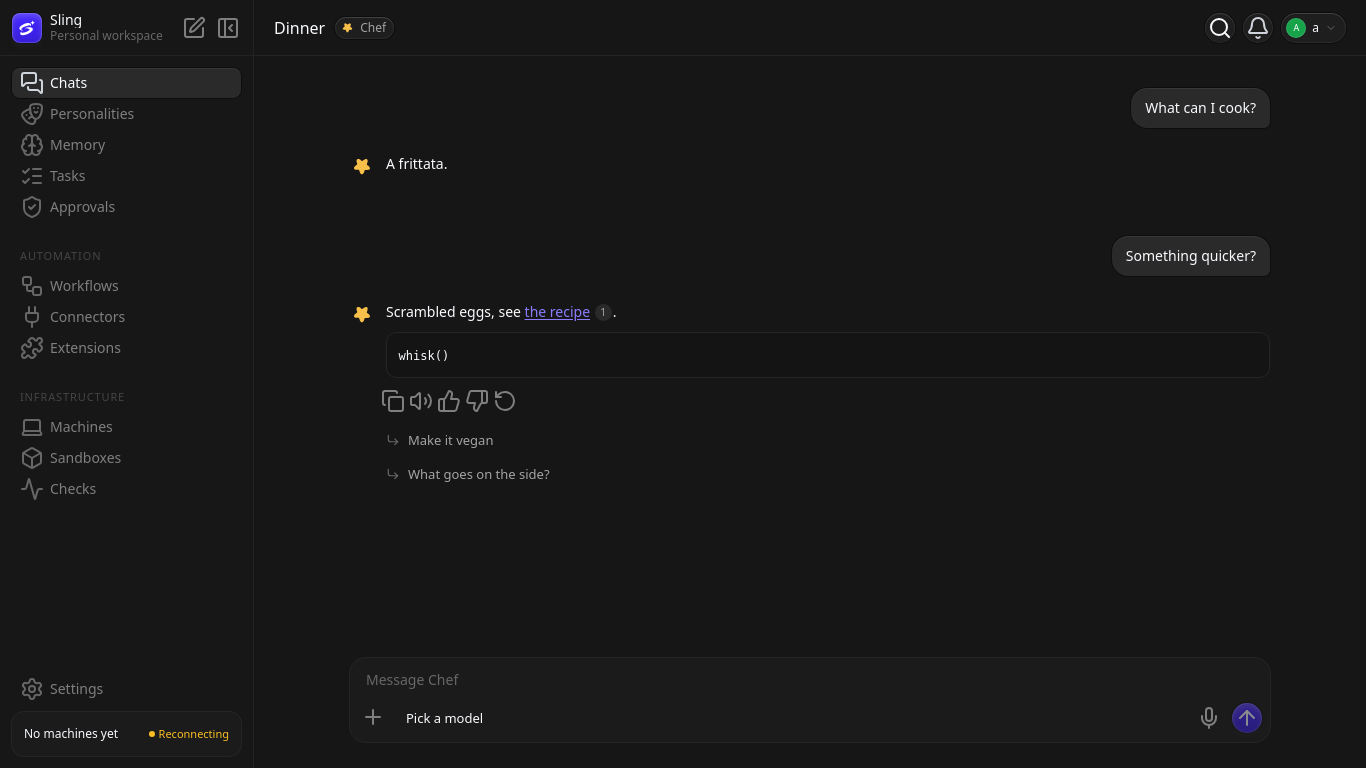
Test: reply actions › copies the reply's Markdown and shows a check
Click the button named "Copy". click: (393, 401)
box: [380,388,406,414]
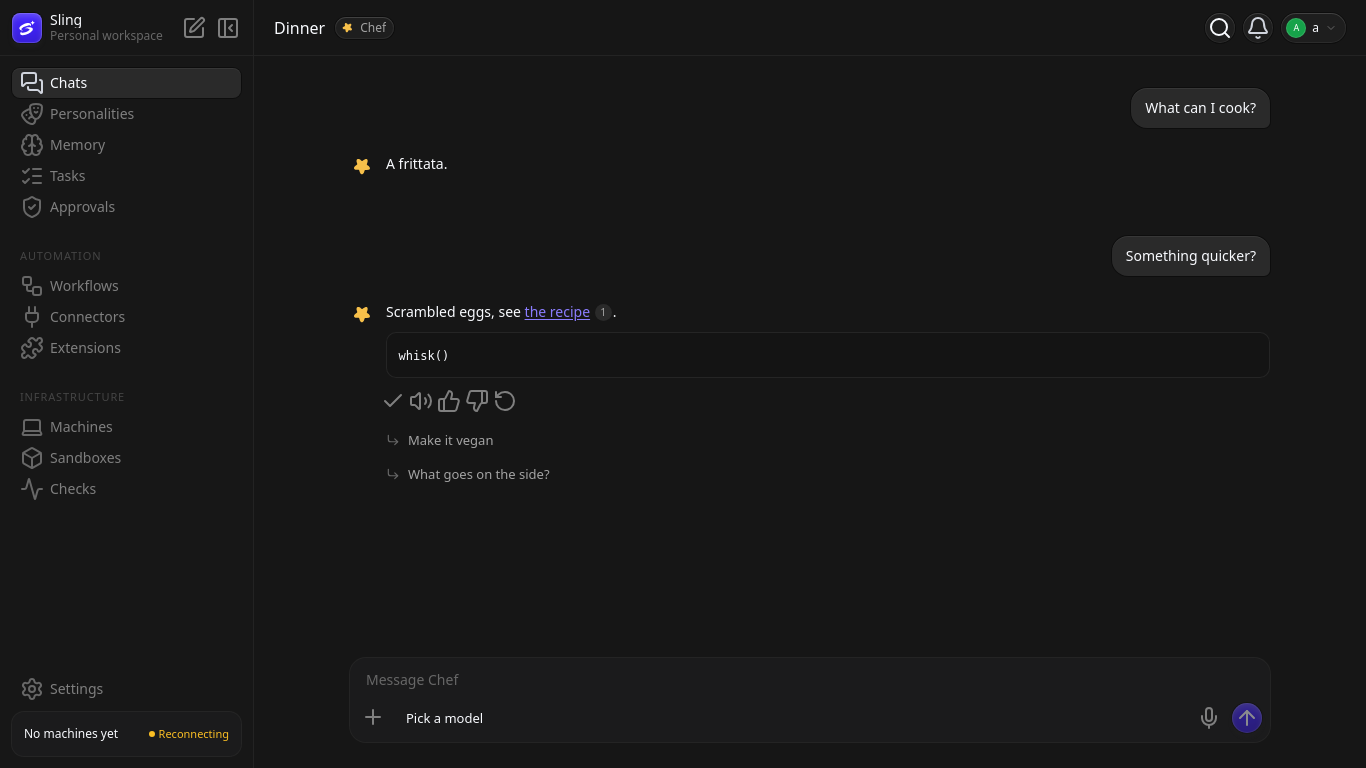
Result: the button named "Copied" is shown at [380,388,406,414]
